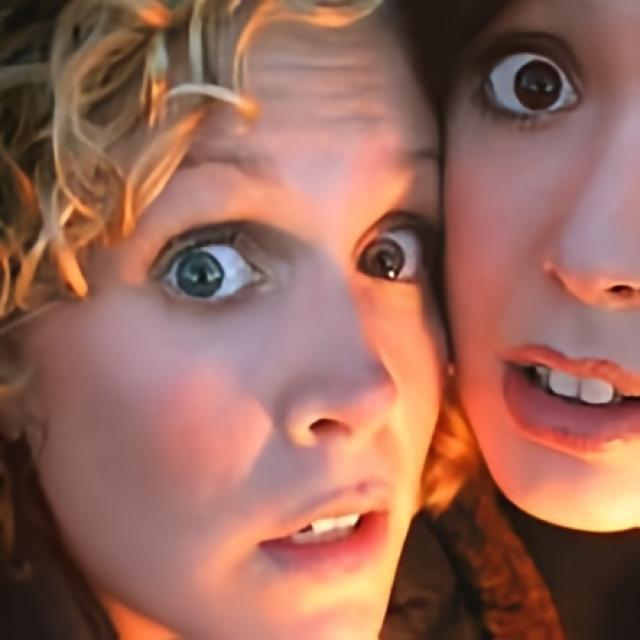fear: (18, 0, 444, 640), (442, 0, 640, 533)
